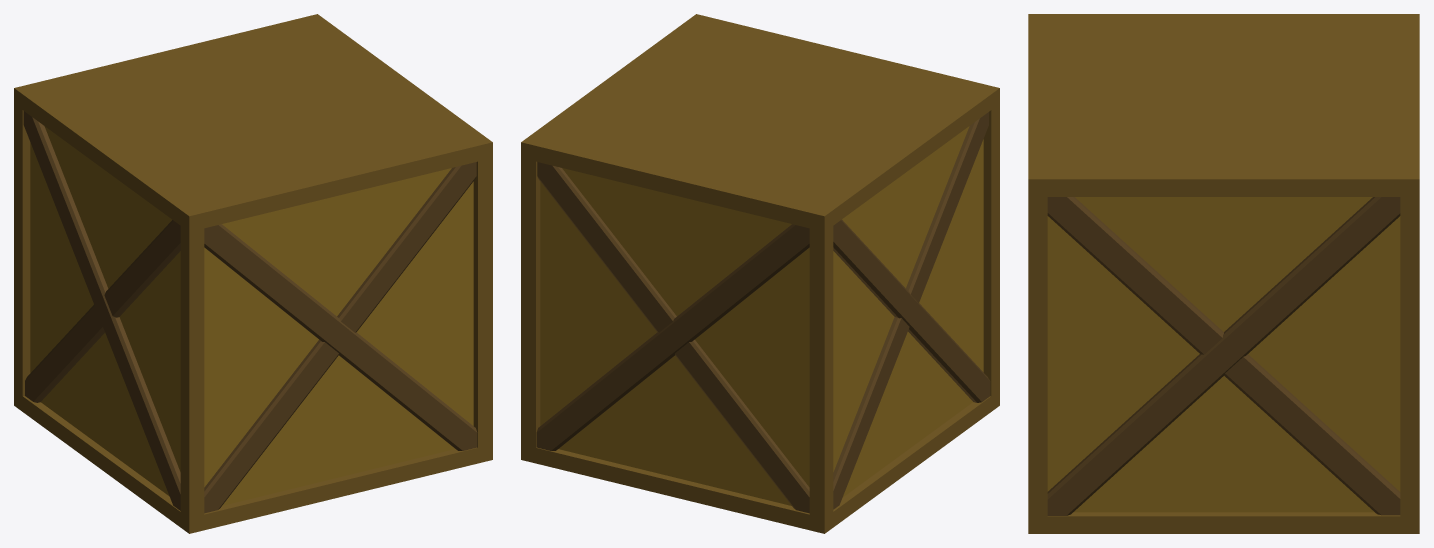
The model's file is Larry_Run__Crate.fbx.
3 views of the same model, side by side, from view 1: azimuth 30°, elevation 25°; view 2: azimuth 150°, elevation 25°; view 3: azimuth 270°, elevation 25° (orthographic). The views are drawn at different scales.
Parts seen in each view (by area): view 1: Crate; view 2: Crate; view 3: Crate.
Part boxes in pixels (bbox=[...]): Crate: bbox=[14, 14, 492, 533]; Crate: bbox=[521, 14, 999, 533]; Crate: bbox=[1028, 14, 1419, 533].
Bounding box in the file's own units: 58.81 × 58.81 × 58.81.
